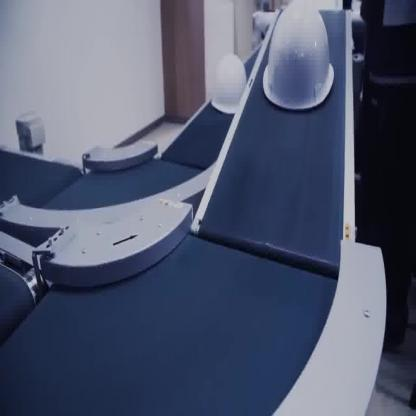helmet: (262, 4, 334, 112), (210, 54, 248, 116)
